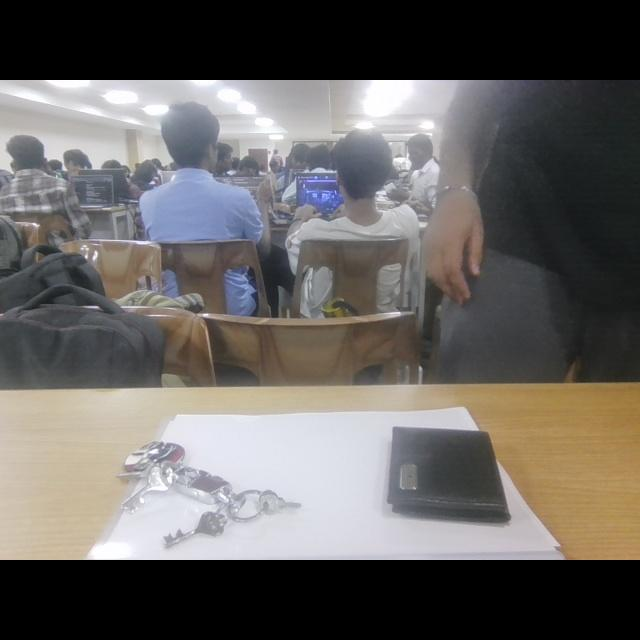keys: (117, 424, 306, 558)
